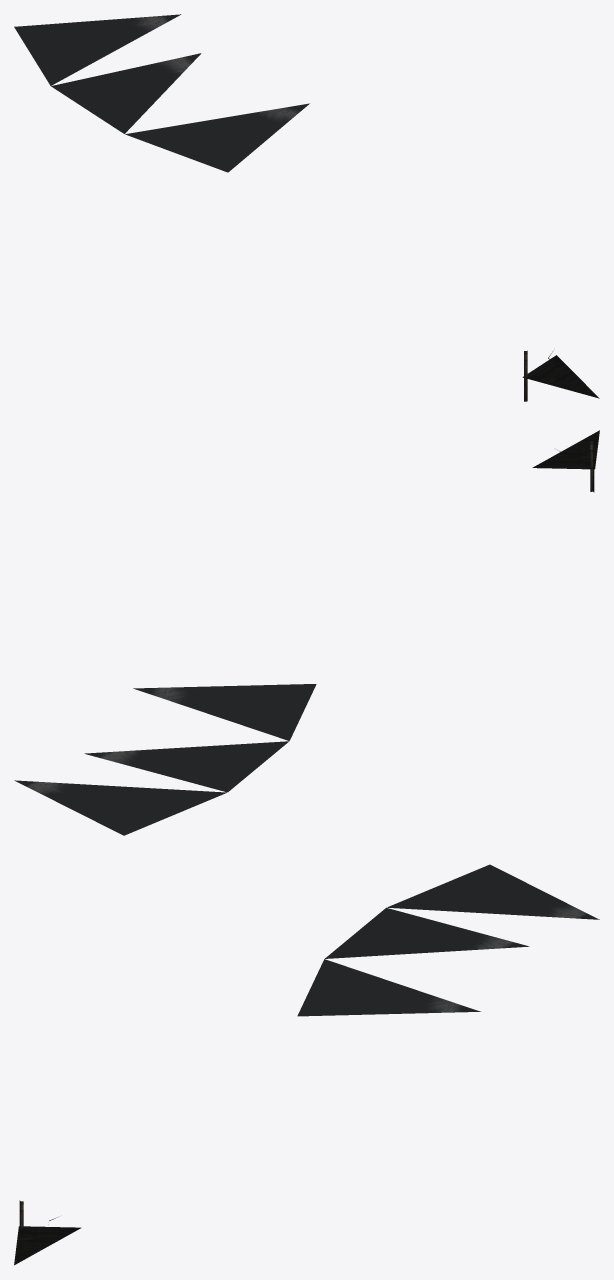
Rendered from cell_14_-1.gltf.
3 views of the same model, one above another, from view 1: azimuth 30°, elevation 25°; view 2: azimuth 150°, elevation 25°; view 3: azimuth 330°, elevation 25° (orthographic).
Visible parts, largest first — view 1: cell_14_-1; view 2: cell_14_-1; view 3: cell_14_-1.
Part boxes in pixels (x1,y1,x2,y2): cell_14_-1: (14,14,599,401); cell_14_-1: (14,430,599,835); cell_14_-1: (14,864,599,1265).
Size of the model in its own units: 48.49 by 13.22 by 251.
4 materials, 4 textured.
